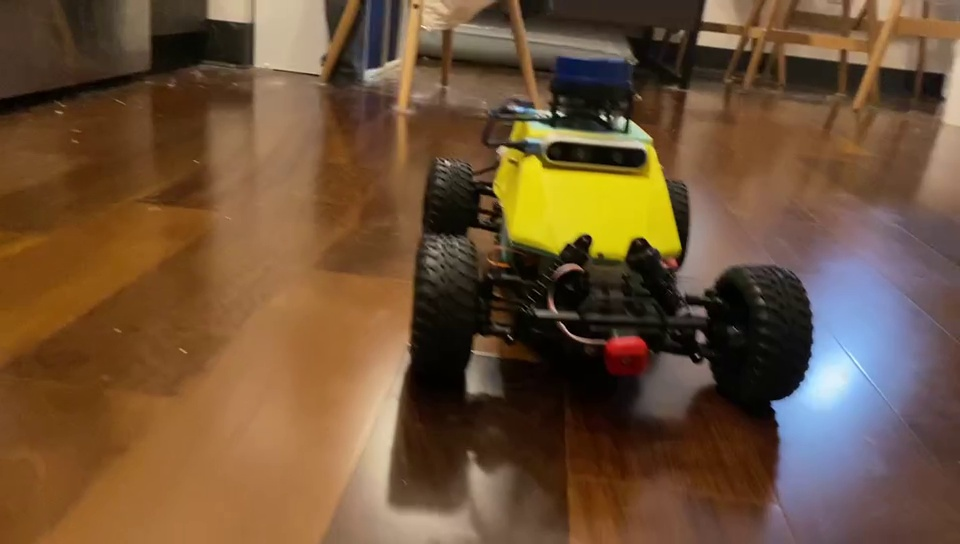mushr_car: (406, 44, 821, 413)
